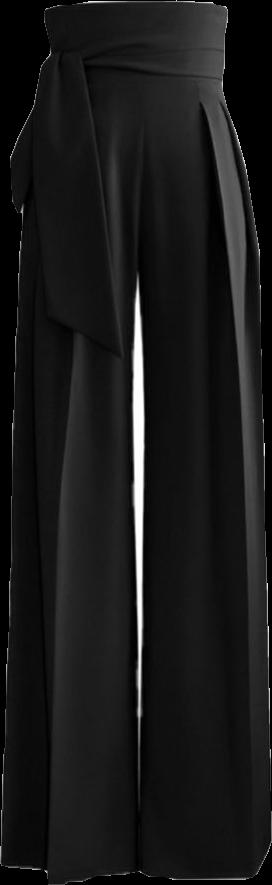Hemline: (14, 64, 131, 355), (137, 839, 271, 884), (2, 856, 141, 884)
Pantleg: (0, 0, 140, 882), (137, 0, 270, 880)
Waistline: (47, 55, 220, 80), (42, 0, 226, 15)
